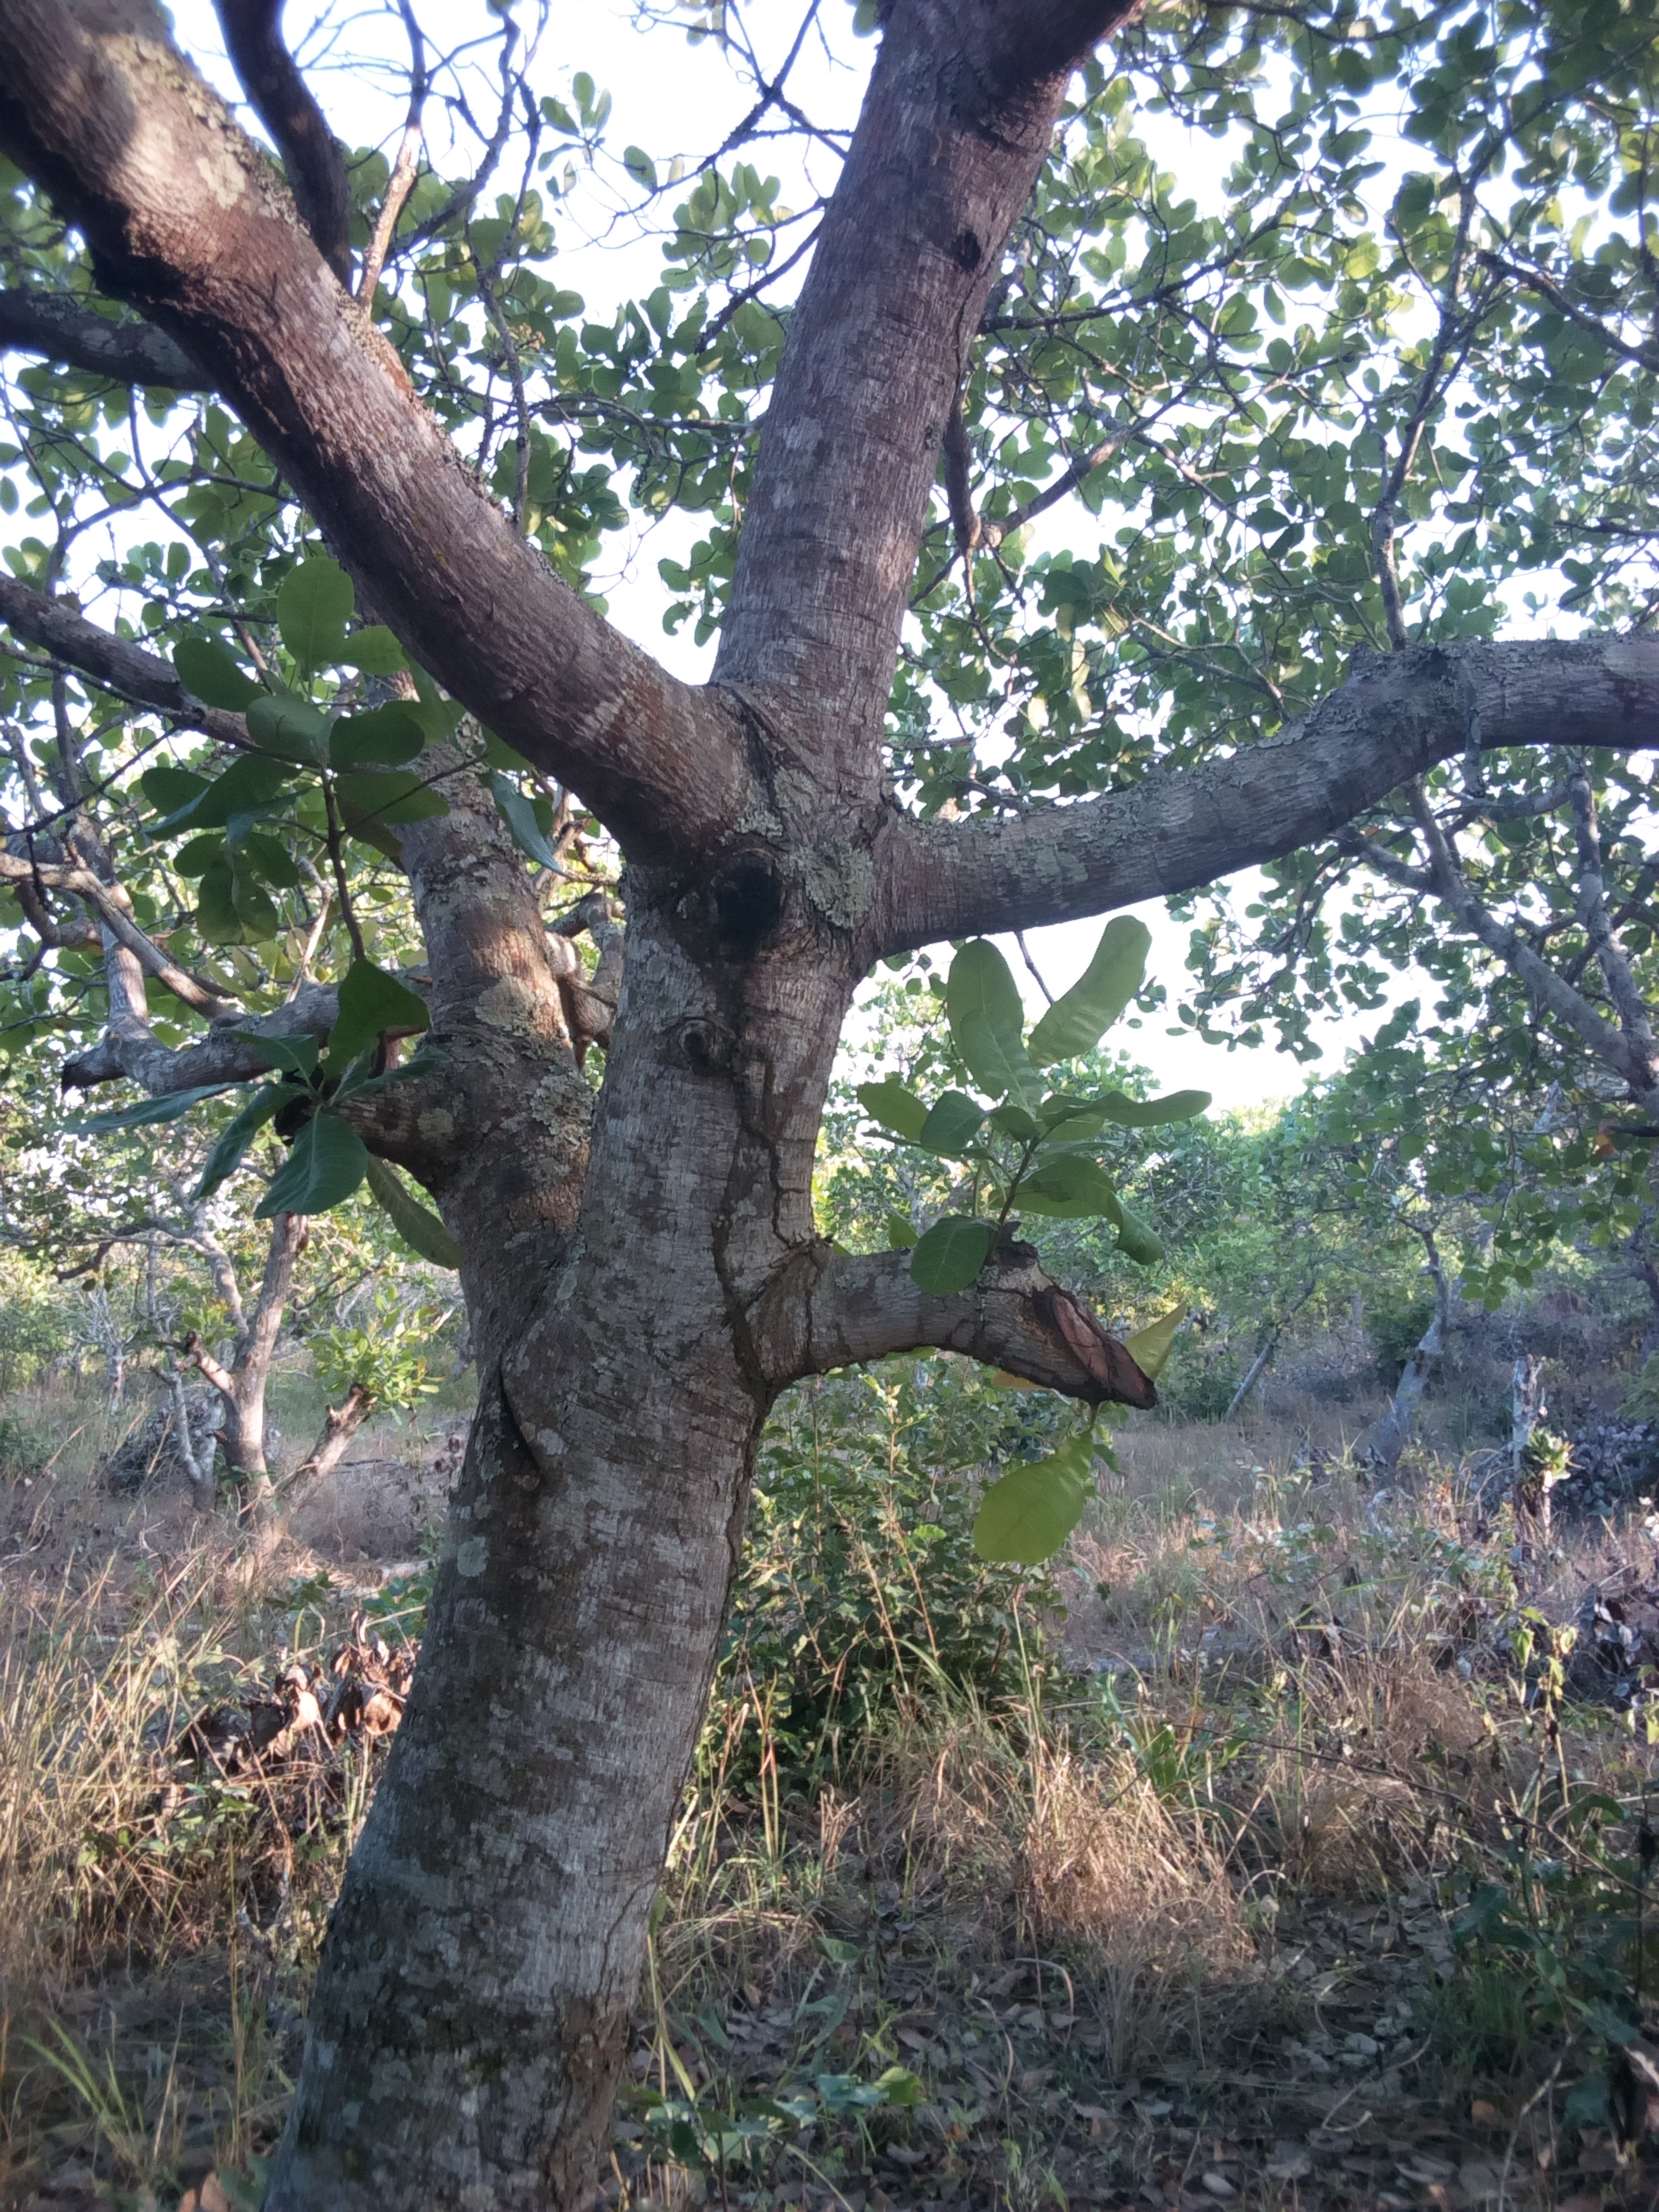Termites: (697, 1008, 816, 1496)
